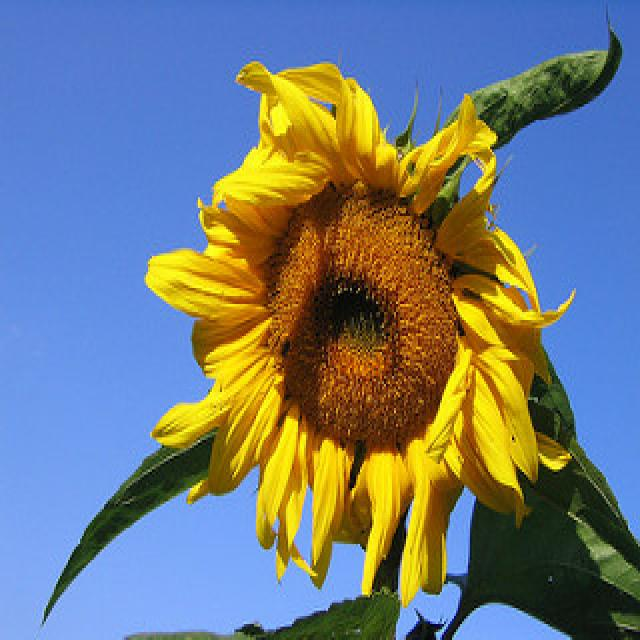sunflower: (138, 44, 584, 609)
